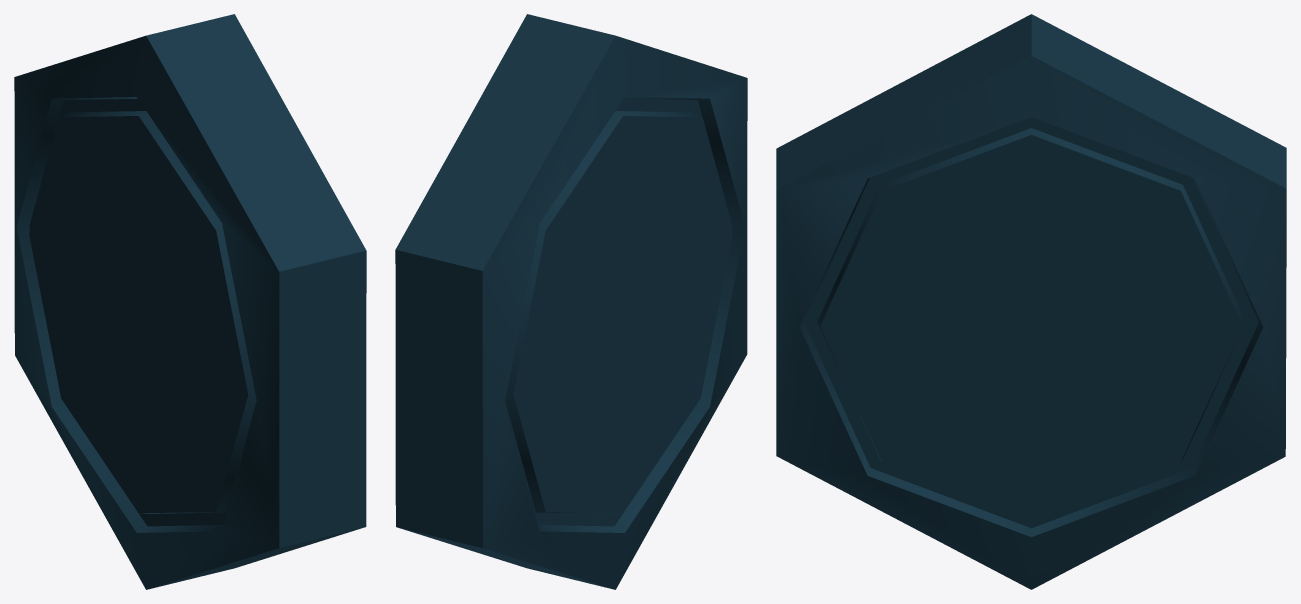
Rendered from PipeSmall_Connector_06.fbx.
3 views of the same model, side by side, from view 1: azimuth 30°, elevation 25°; view 2: azimuth 150°, elevation 25°; view 3: azimuth 270°, elevation 25° (orthographic). The views are drawn at different scales.
Visible parts, largest first — view 1: PipeSmall_Connector_06.001; view 2: PipeSmall_Connector_06.001; view 3: PipeSmall_Connector_06.001.
Part boxes in pixels (<box>): PipeSmall_Connector_06.001: <box>14,14,366,589</box>; PipeSmall_Connector_06.001: <box>395,14,747,589</box>; PipeSmall_Connector_06.001: <box>776,14,1286,589</box>.
Bounding box in the file's own units: 0.0299 × 0.1479 × 0.1281.
